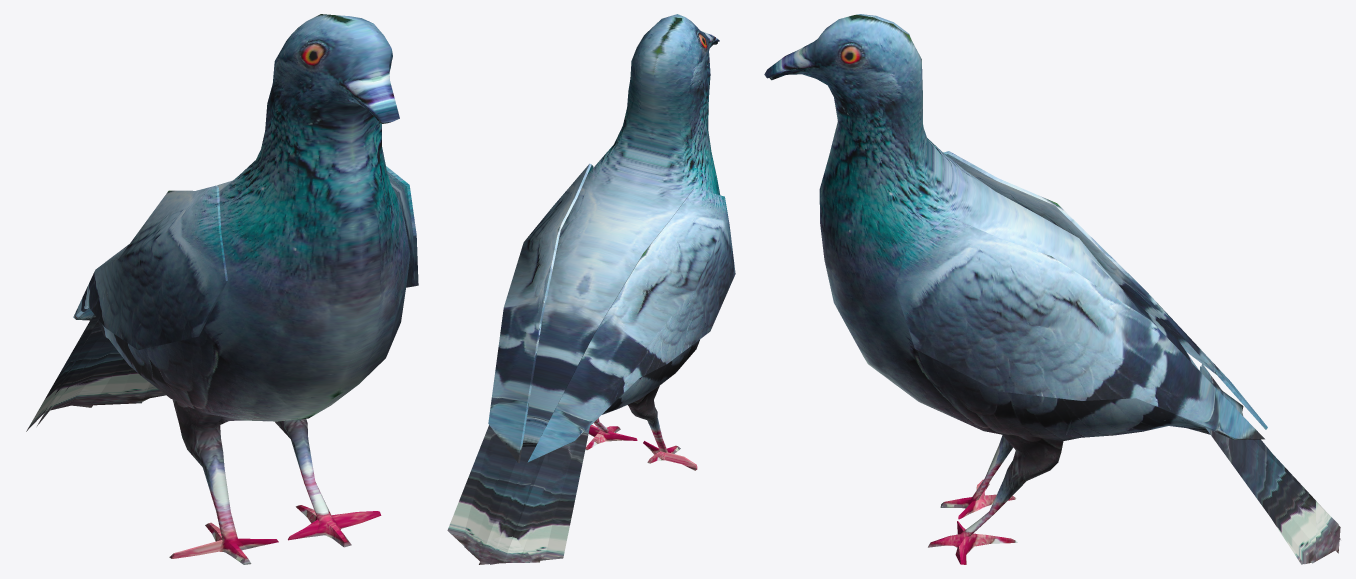
The model's file is Bird3.fbx.
3 renders of one model, left to right at view 1: azimuth 30°, elevation 25°; view 2: azimuth 150°, elevation 25°; view 3: azimuth 270°, elevation 25°, orthographic. The views are drawn at different scales.
Visible parts, largest first — view 1: 03magpie; view 2: 03magpie; view 3: 03magpie.
Part boxes in pixels (box(x1,y1,x2,y2)): 03magpie: box(26, 14, 418, 564); 03magpie: box(447, 14, 735, 564); 03magpie: box(764, 14, 1340, 564).
Bounding box in the file's own units: 343 × 775 × 764.
